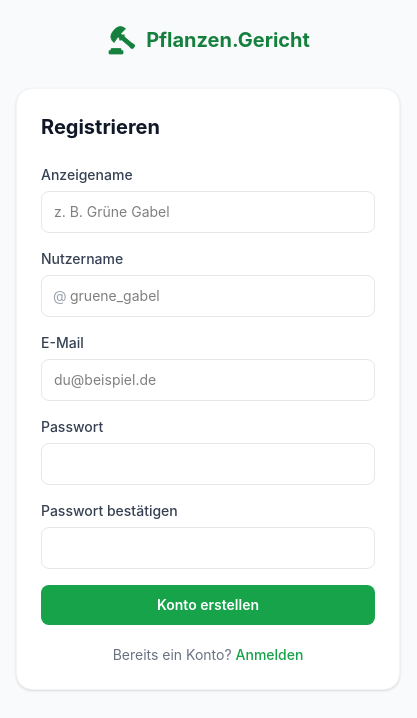
RegisterView › given an invalid username › shows the format hint
The width and height of the screenshot is (417, 718).
In the field with id "username": (208, 296) [41,275,375,317], type "A!"
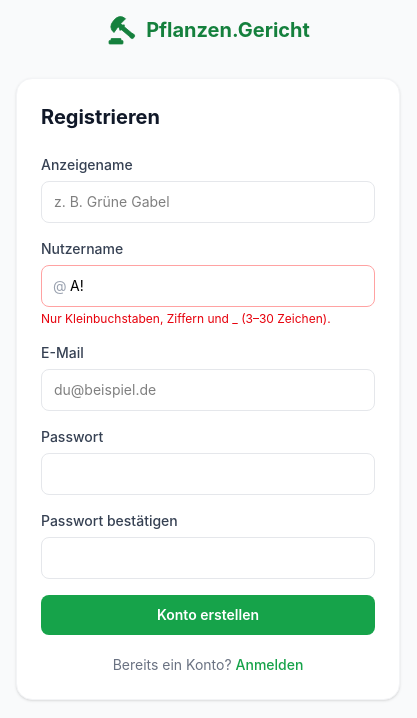
Expected: the message "Nur Kleinbuchstaben, Ziffern und _ (3–30 Zeichen)." is shown, [41,311,375,327]
